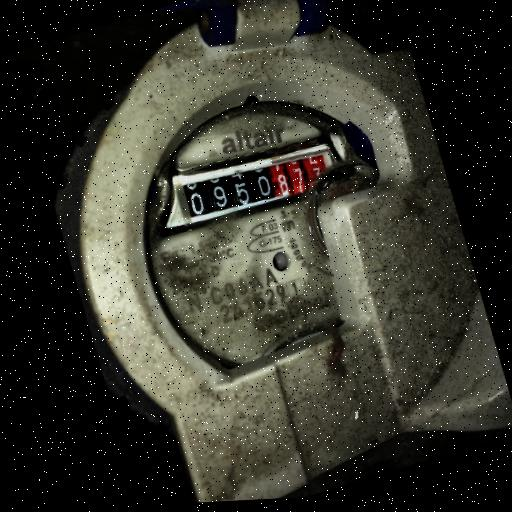0: (246, 164, 279, 205), (181, 178, 213, 219)
2: (304, 152, 331, 187)
5: (224, 169, 257, 209)
7: (287, 157, 313, 193)
8: (268, 160, 297, 198)
9: (203, 173, 236, 213)
border_water_meter_number: (170, 135, 341, 231)
